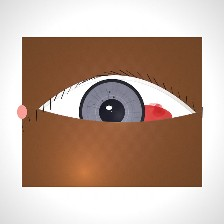hemorrhage_spot: (103, 86, 183, 150)
